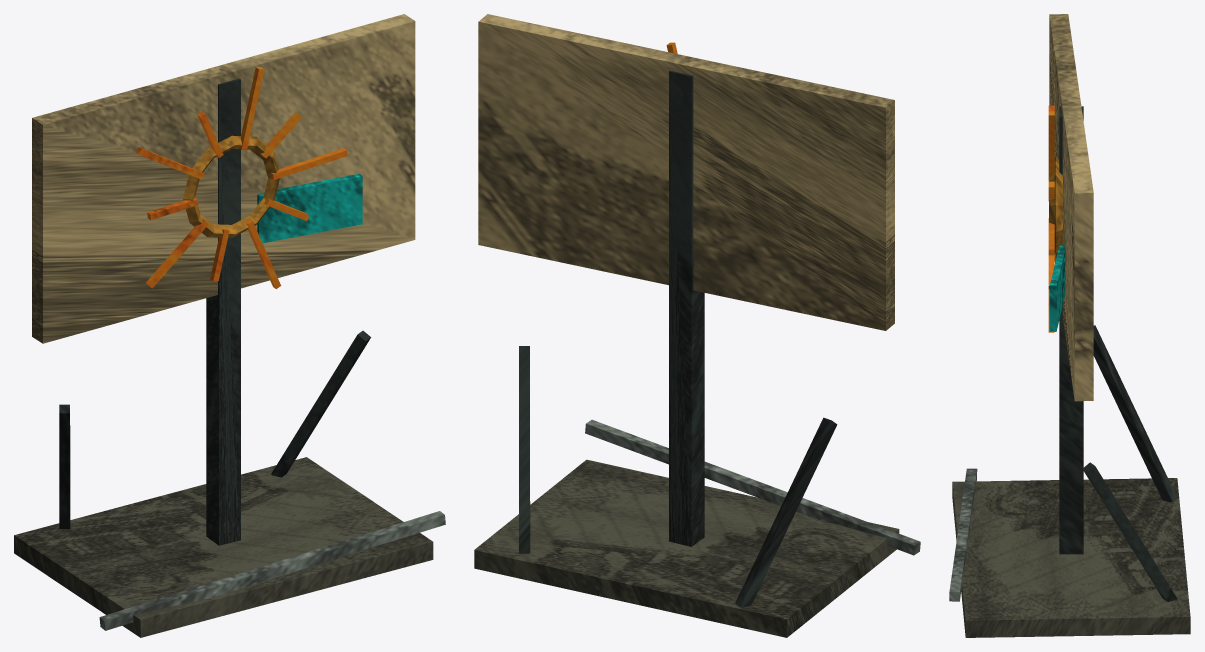
The model's file is east-starburst-billboard.glb.
3 renders of one model, left to right at view 1: azimuth 30°, elevation 25°; view 2: azimuth 150°, elevation 25°; view 3: azimuth 270°, elevation 25°, orthographic. The views are drawn at different scales.
Visible parts, largest first — view 1: east-starburst-billboard; view 2: east-starburst-billboard; view 3: east-starburst-billboard.
Part boxes in pixels (x1,y1,x2,y2): east-starburst-billboard: [14, 14, 445, 637]; east-starburst-billboard: [474, 14, 920, 637]; east-starburst-billboard: [949, 14, 1190, 637].
Bounding box in the file's own units: 4.9 × 5.94 × 2.79.
Materials: 1 (1 with a texture image).
